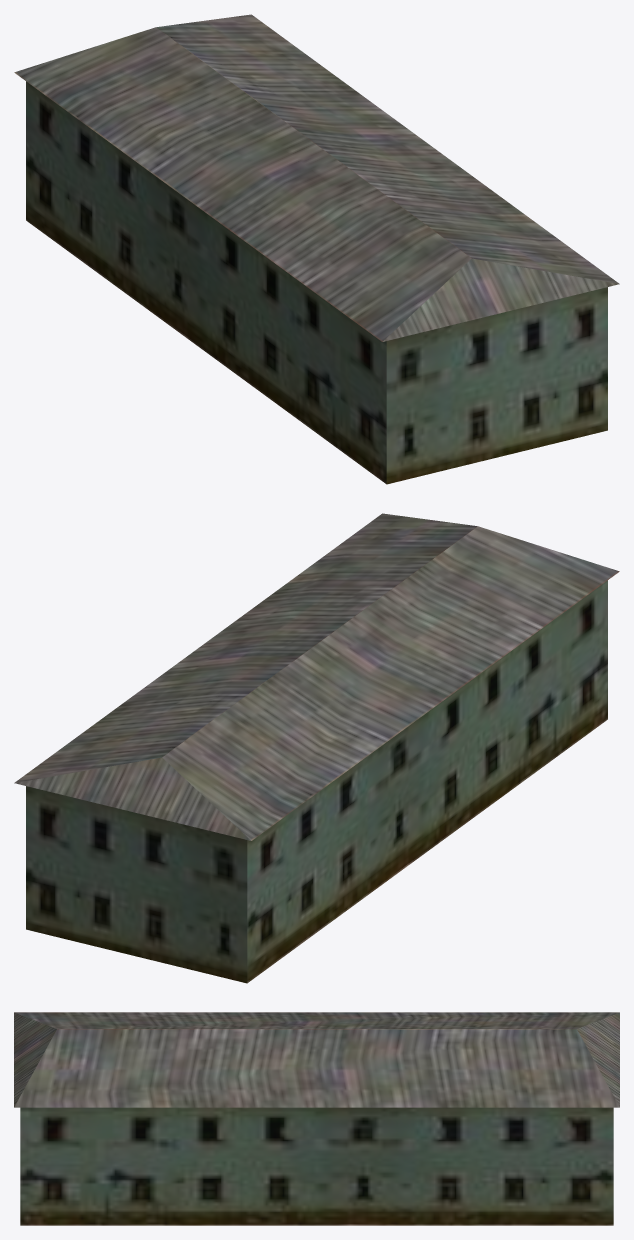
File: building3.fbx
3 renders of one model, top to bottom at view 1: azimuth 30°, elevation 25°; view 2: azimuth 150°, elevation 25°; view 3: azimuth 270°, elevation 25°, orthographic. The views are drawn at different scales.
Visible parts, largest first — view 1: Cube.003; view 2: Cube.003; view 3: Cube.003.
Part boxes in pixels (x1,y1,x2,y2): Cube.003: (14,14,619,484); Cube.003: (14,513,619,983); Cube.003: (14,1012,619,1225).
Bounding box in the file's own units: 901 × 664 × 2418.
1 material, 1 textured.
